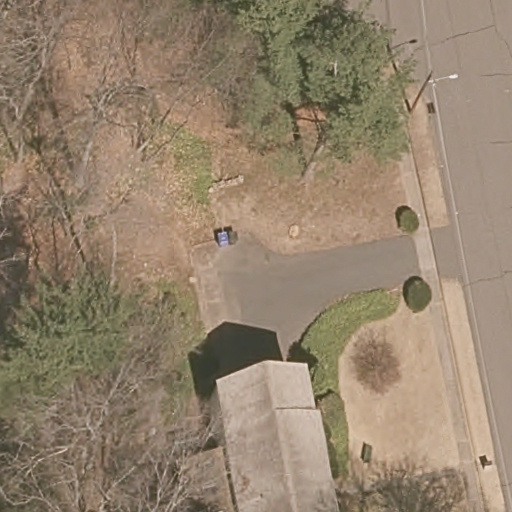DT: (408, 70, 458, 114)
